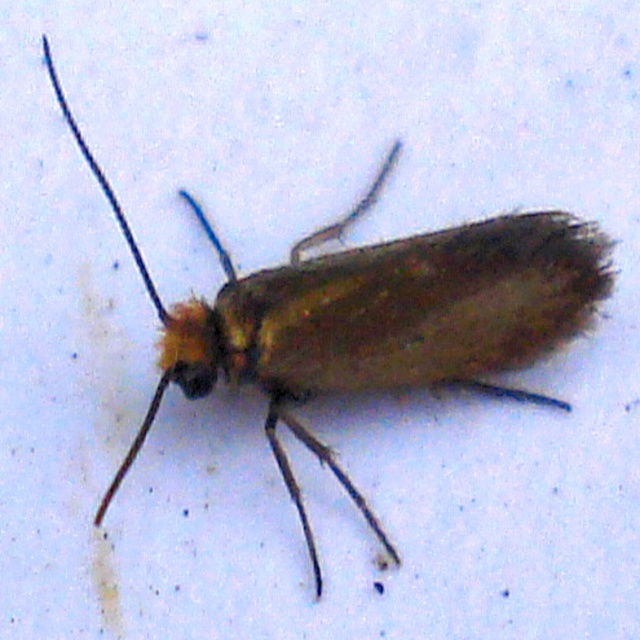Moths and butterflies: (41, 28, 618, 598)
